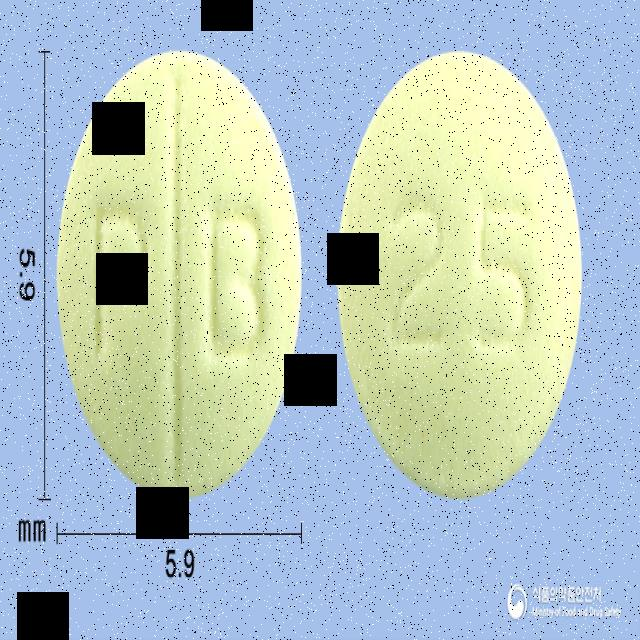Azabio: (55, 44, 306, 502)
